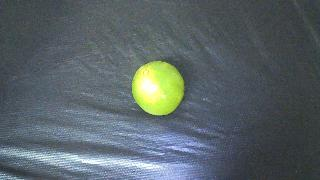LOCAL: (132, 61, 185, 116)
